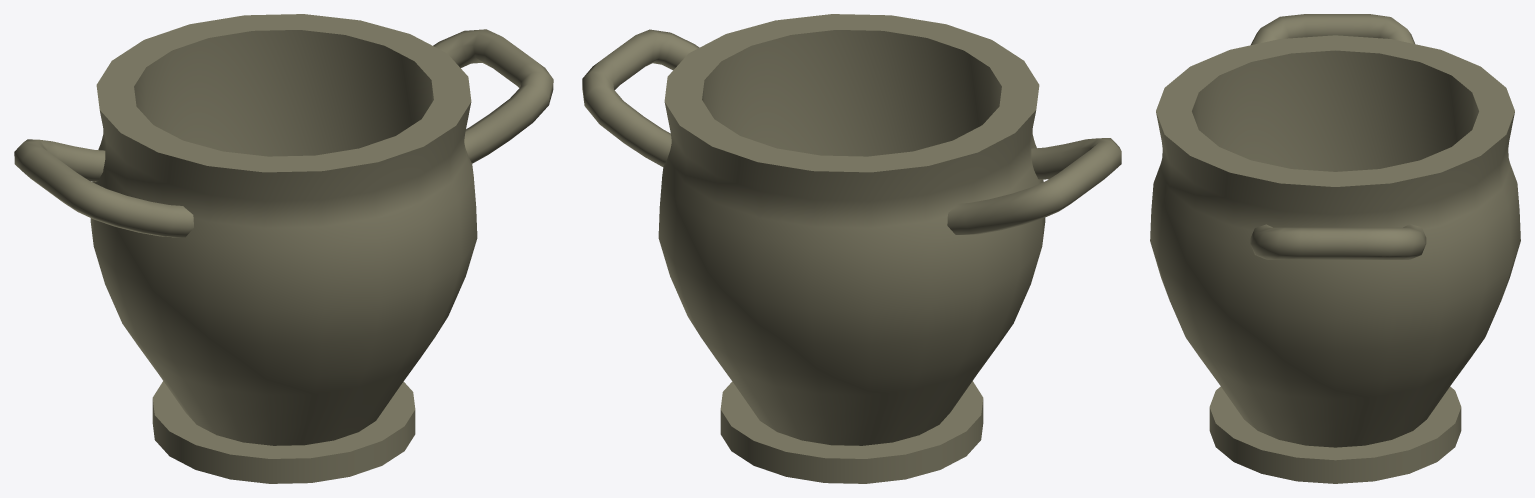
Rendered from WM_SmallPot.fbx.
3 renders of one model, left to right at view 1: azimuth 30°, elevation 25°; view 2: azimuth 150°, elevation 25°; view 3: azimuth 270°, elevation 25°, orthographic. The views are drawn at different scales.
Visible parts, largest first — view 1: Cylinder.006; view 2: Cylinder.006; view 3: Cylinder.006.
Boxes of the visible parts, x1,y1,x2,y2 form: Cylinder.006: (14,14,553,483); Cylinder.006: (582,14,1121,483); Cylinder.006: (1150,14,1520,483).
Size of the model in its own units: 2.94 by 1.93 by 2.03.
